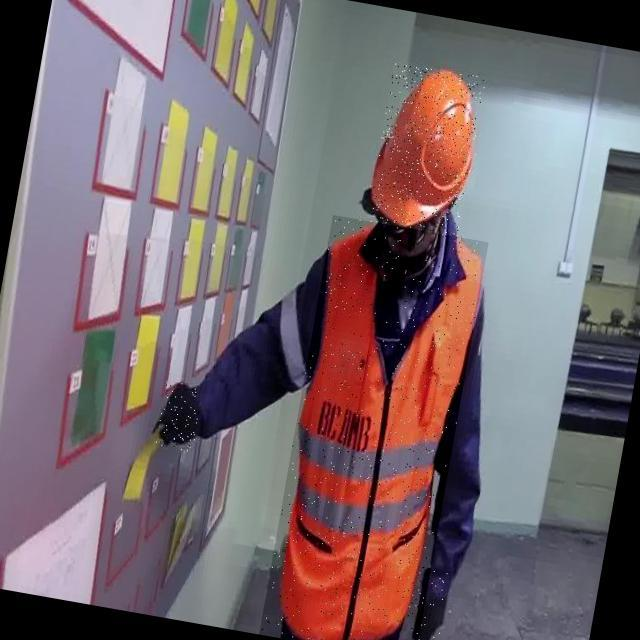Gloves: (140, 371, 217, 464), (400, 573, 470, 640)
Helmet: (366, 61, 486, 237)
Person: (131, 37, 531, 640)
Safety Vest: (258, 214, 488, 640)
